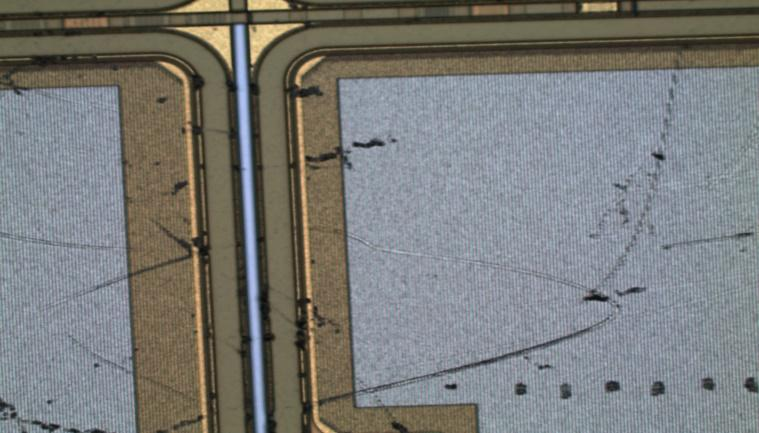SCRATCH: (1, 42, 759, 433)
